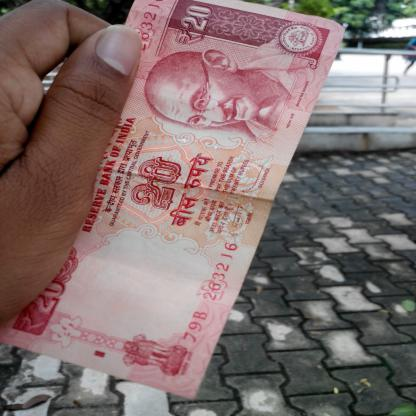Old20Front: (0, 0, 344, 399)
